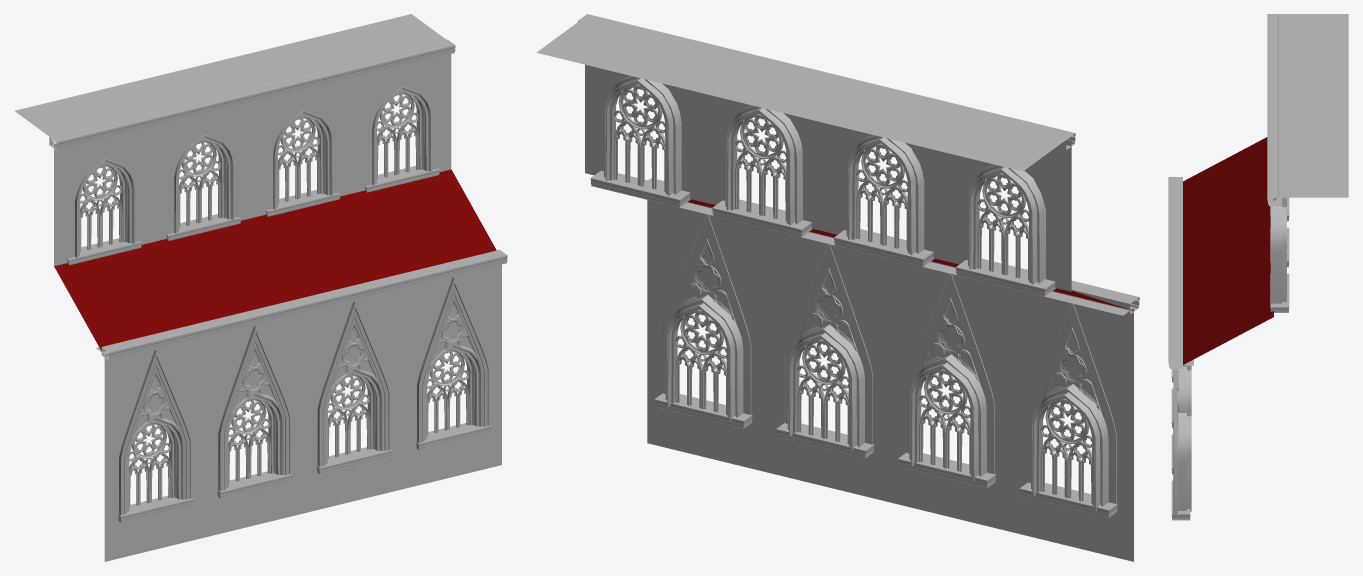
The model's file is hall_009.glb.
The picture shows the model from 3 angles, left to right: view 1: azimuth 30°, elevation 25°; view 2: azimuth 150°, elevation 25°; view 3: azimuth 270°, elevation 25°; orthographic projection. The views are drawn at different scales.
Visible parts, largest first — view 1: hall_009; view 2: hall_009; view 3: hall_009.
Part boxes in pixels (x1,y1,x2,y2): hall_009: (15,14,507,561); hall_009: (536,14,1139,561); hall_009: (1168,14,1348,520).
Size of the model in its own units: 4.24 by 3.92 by 1.75.
